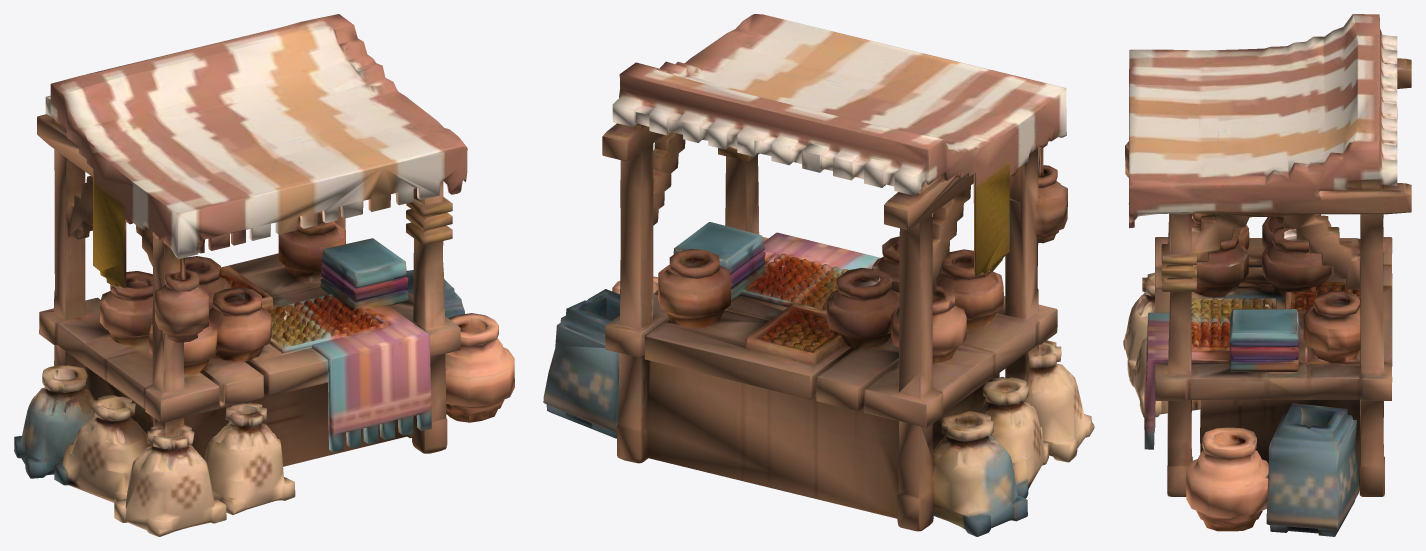
Rendered from stall_b.glb.
3 renders of one model, left to right at view 1: azimuth 30°, elevation 25°; view 2: azimuth 150°, elevation 25°; view 3: azimuth 270°, elevation 25°, orthographic. The views are drawn at different scales.
Parts seen in each view (by area): view 1: node_0; view 2: node_0; view 3: node_0.
Boxes of the visible parts, x1=… form: node_0: x1=14, y1=14, x2=514, y2=536; node_0: x1=543, y1=14, x2=1094, y2=536; node_0: x1=1123, y1=14, x2=1411, y2=536.
Bounding box in the file's own units: 0.9369 × 0.7312 × 0.5504.
Materials: 1 (1 with a texture image).
